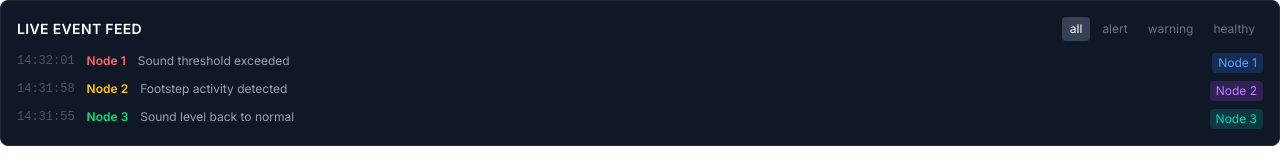
it: EventFeed › filters to only warning events when warning is clicked
Click the button "warning": coordinates (1171, 29) left=1140, top=17, right=1201, bottom=41
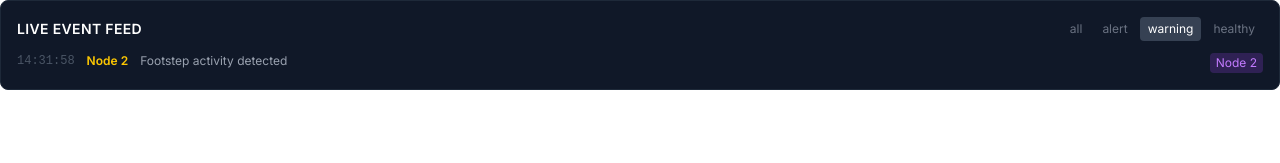
Check: the text "Footstep activity detected" is shown, box left=140, top=53, right=287, bottom=69
Check: the text "Sound threshold exceeded" is gone
Check: the text "Sound level back to normal" is gone
